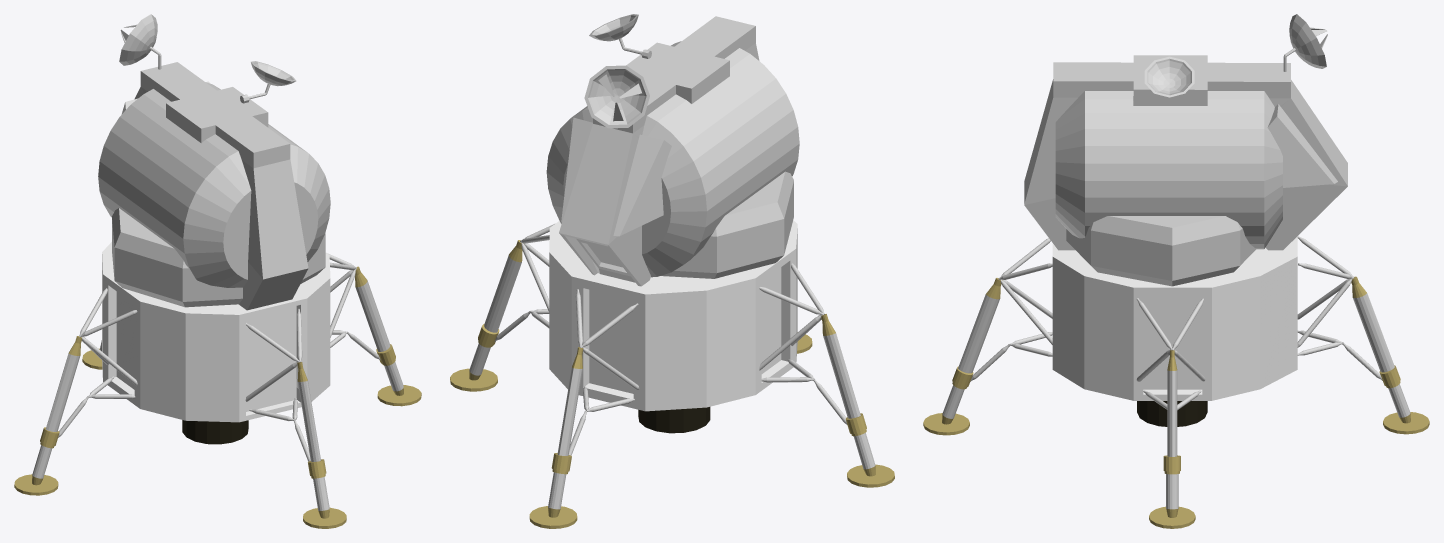
File: lunar-module.gltf
3 renders of one model, left to right at view 1: azimuth 30°, elevation 25°; view 2: azimuth 150°, elevation 25°; view 3: azimuth 270°, elevation 25°, orthographic. The views are drawn at different scales.
Parts seen in each view (by area): view 1: Sphere.001; view 2: Sphere.001; view 3: Sphere.001.
Boxes of the visible parts, left/top/right/bottom form: Sphere.001: left=14, top=14, right=421, bottom=528; Sphere.001: left=450, top=14, right=894, bottom=528; Sphere.001: left=923, top=14, right=1429, bottom=528.
Bounding box in the file's own units: 6.69 × 6.07 × 6.92.
